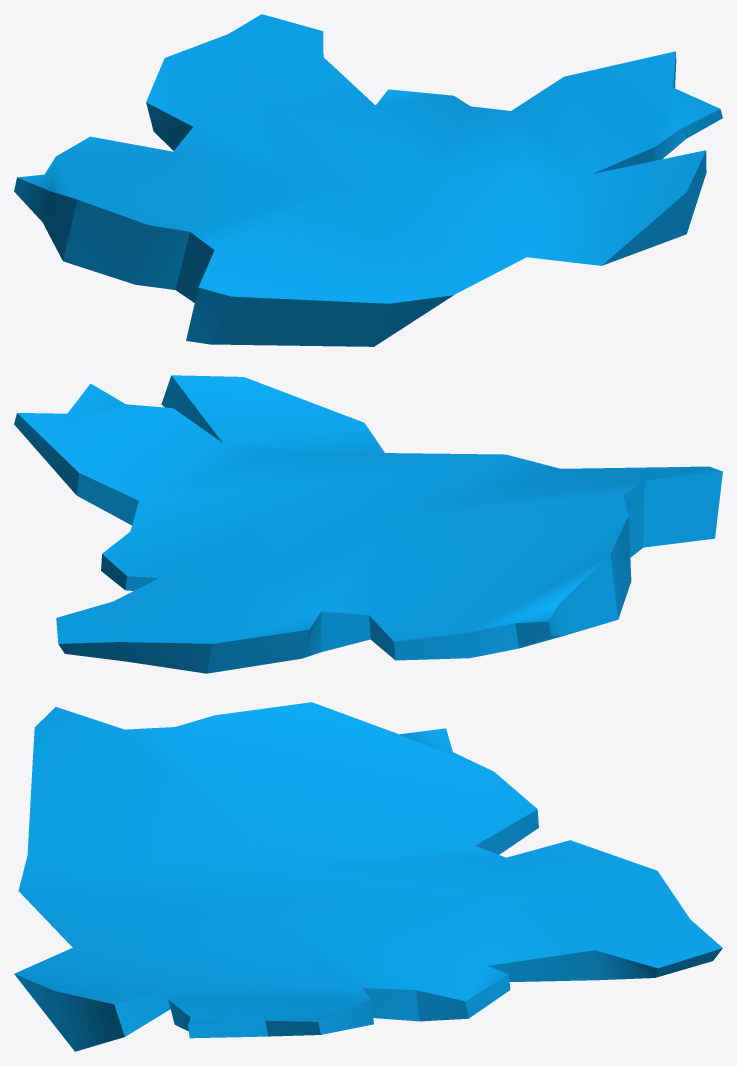
The model's file is p_mesh_drillbot_metalchunk01.fbx.
3 views of the same model, one above another, from view 1: azimuth 30°, elevation 25°; view 2: azimuth 150°, elevation 25°; view 3: azimuth 270°, elevation 25° (orthographic). The views are drawn at different scales.
Visible parts, largest first — view 1: p_destroyedwarehouse_metal_chunk_01; view 2: p_destroyedwarehouse_metal_chunk_01; view 3: p_destroyedwarehouse_metal_chunk_01.
Part boxes in pixels (<box>): p_destroyedwarehouse_metal_chunk_01: <box>14,14,722,346</box>; p_destroyedwarehouse_metal_chunk_01: <box>14,375,722,673</box>; p_destroyedwarehouse_metal_chunk_01: <box>14,702,722,1051</box>.
Size of the model in its own units: 8.48 by 1.42 by 7.79.
